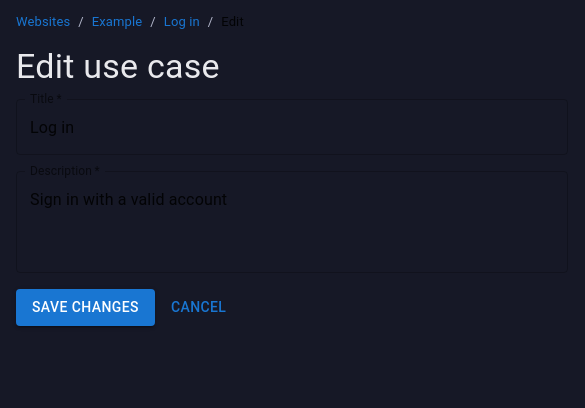
Test: WebsiteItemEditPage (use-cases) › shows the server's error and stays on the form when the save is rejected
Click the button "Save changes".
click(85, 308)  # box top-left (16, 289), bottom-right (155, 326)
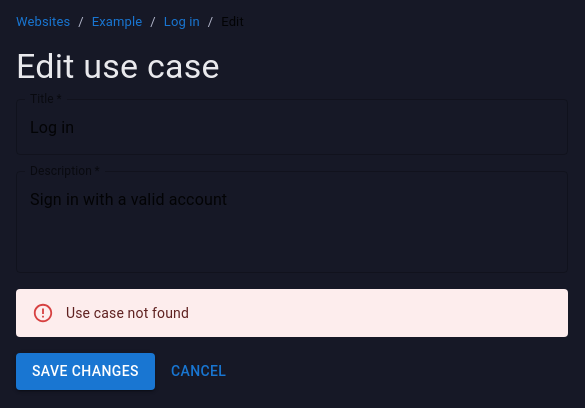
Expected: the field labelled "Title" holds "Log in", top-left (16, 99), bottom-right (568, 155)
Expected: the message reads "Use case not found", top-left (66, 305), bottom-right (189, 321)
